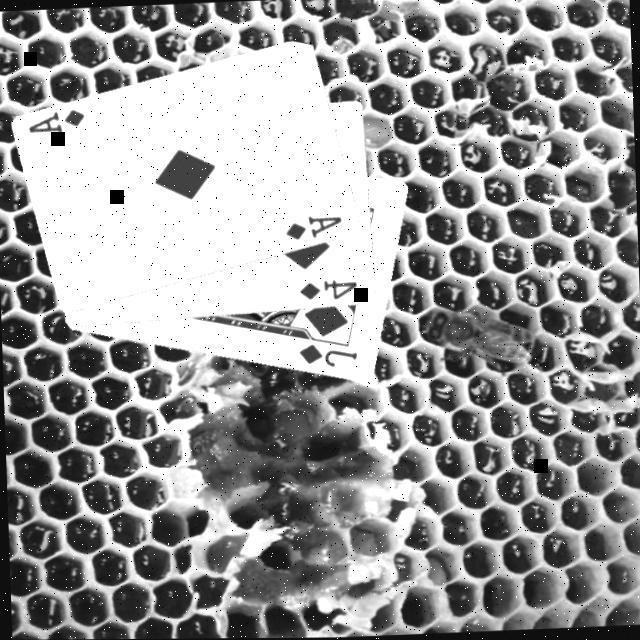4D: (294, 275, 359, 302)
AD: (280, 211, 344, 243), (23, 104, 86, 136)
JD: (294, 339, 359, 371)
